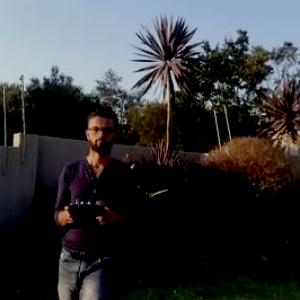follow: (40, 98, 136, 299)
